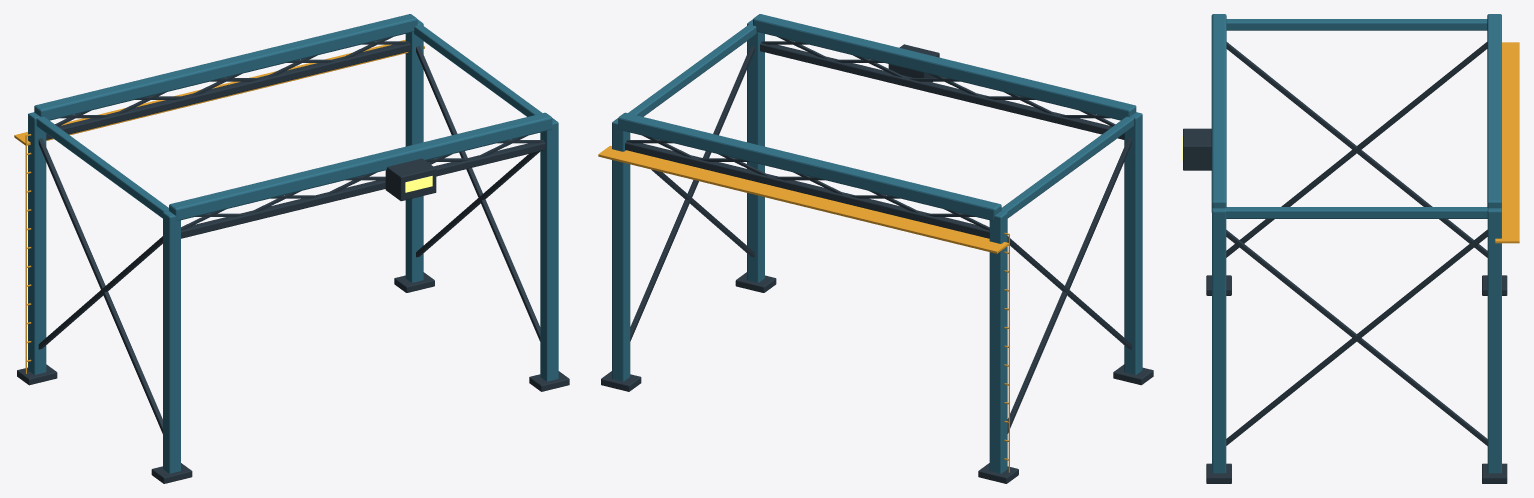
File: gantry-frame-low.glb
3 views of the same model, side by side, from view 1: azimuth 30°, elevation 25°; view 2: azimuth 150°, elevation 25°; view 3: azimuth 270°, elevation 25° (orthographic). The views are drawn at different scales.
Parts seen in each view (by area): view 1: main_girder.001, main_girder, gantry_leg.002, gantry_leg, gantry_leg.001, lower_girder.001, gantry_leg.003, lower_girder, end_tie, end_cross_a, end_tie.001, end_cross_a.001 (+4 smaller); view 2: main_girder.001, main_girder, service_platform, gantry_leg.001, gantry_leg, gantry_leg.003, lower_girder.001, lower_girder, gantry_leg.002, end_tie, end_cross_b, end_tie.001 (+3 smaller); view 3: gantry_leg.002, gantry_leg.003, service_platform, end_tie, end_tie.001, main_girder, main_girder.001, end_cross_a.001, end_cross_b.001, end_cross_b, end_cross_a, operator_cabin (+2 smaller).
Boxes of the visible parts, <box> form: main_girder.001: <box>34,14,417,120</box>; main_girder: <box>169,112,552,220</box>; gantry_leg.002: <box>540,118,558,381</box>; gantry_leg: <box>163,211,180,473</box>; gantry_leg.001: <box>28,112,46,374</box>; lower_girder.001: <box>46,43,410,139</box>; gantry_leg.003: <box>405,19,423,282</box>; lower_girder: <box>181,142,545,238</box>; end_tie: <box>36,116,168,218</box>; end_cross_a: <box>38,138,162,433</box>; end_tie.001: <box>414,24,542,116</box>; end_cross_a.001: <box>416,46,540,341</box>; main_girder.001: <box>618,112,1001,220</box>; main_girder: <box>753,14,1136,120</box>; service_platform: <box>598,145,1008,253</box>; gantry_leg.001: <box>989,211,1007,473</box>; gantry_leg: <box>1124,112,1142,374</box>; gantry_leg.003: <box>612,118,630,381</box>; lower_girder.001: <box>625,142,989,238</box>; lower_girder: <box>760,43,1124,139</box>; gantry_leg.002: <box>747,19,764,282</box>; end_tie: <box>1001,116,1133,218</box>; end_cross_b: <box>1007,138,1131,433</box>; end_tie.001: <box>628,24,756,116</box>; gantry_leg.002: <box>1212,208,1226,473</box>; gantry_leg.003: <box>1487,208,1501,473</box>; service_platform: <box>1495,42,1519,243</box>; end_tie: <box>1226,19,1487,30</box>; end_tie.001: <box>1226,207,1487,218</box>; main_girder: <box>1211,14,1226,212</box>; main_girder.001: <box>1487,14,1501,208</box>; end_cross_a.001: <box>1226,229,1487,445</box>; end_cross_b.001: <box>1226,230,1487,445</box>; end_cross_b: <box>1226,42,1487,257</box>; end_cross_a: <box>1226,42,1487,257</box>; operator_cabin: <box>1183,128,1211,170</box>.
Size of the model in its own units: 45.2 by 28.7 by 31.82.
